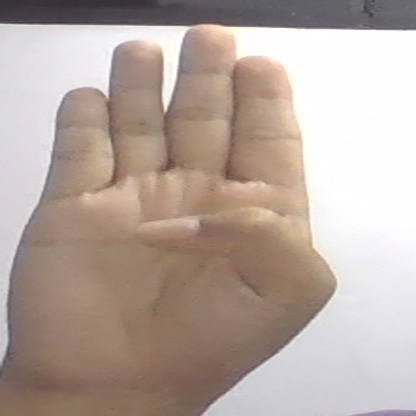B: (3, 23, 333, 391)
